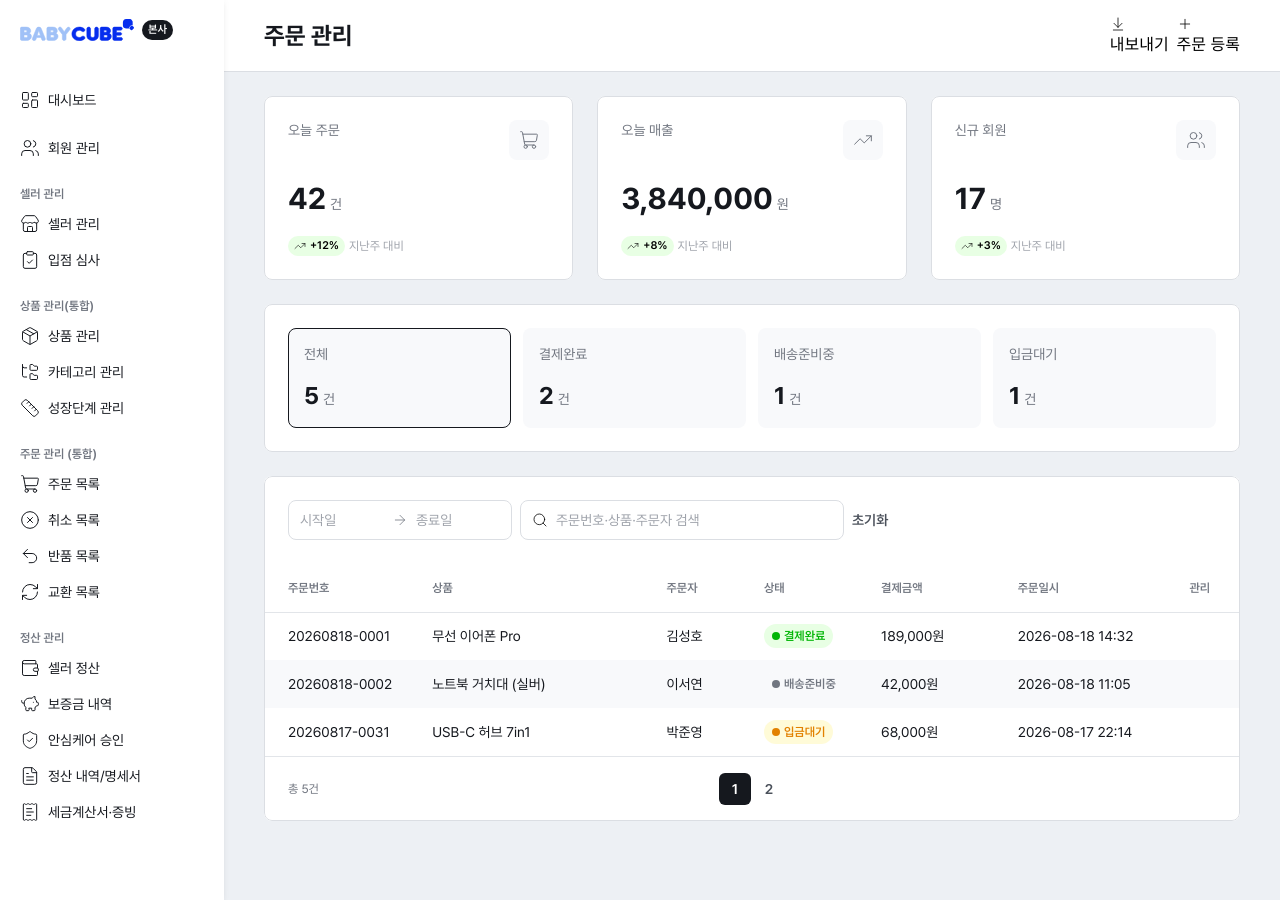
OrderListPage › 초기화 › 필터·검색을 건 뒤 초기화를 누르면 전체가 돌아온다
Click the button "결제완료 2 건" at (634, 378), box [523,328,746,428]
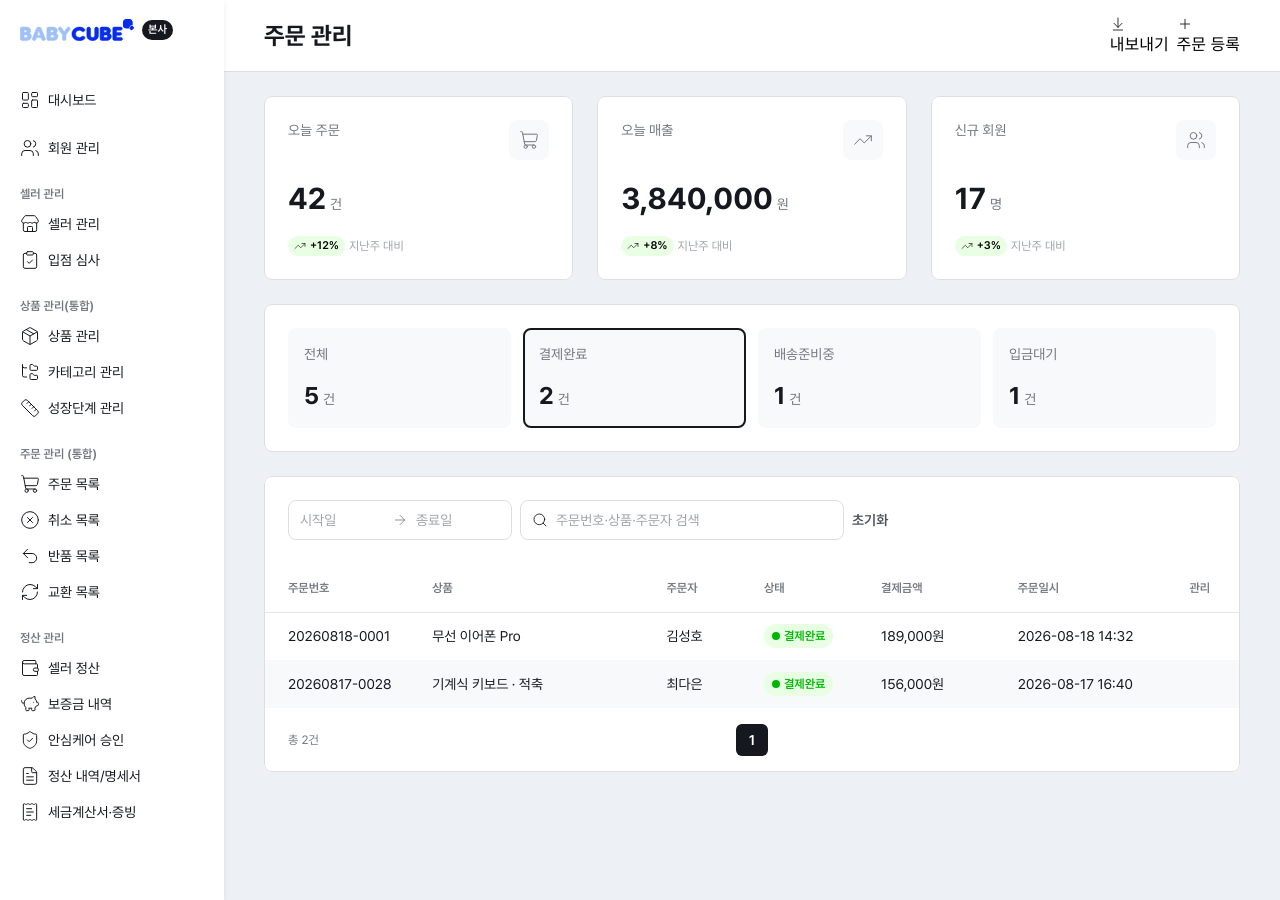
Type "김성호" into the field at (694, 520), box [556,508,832,532]
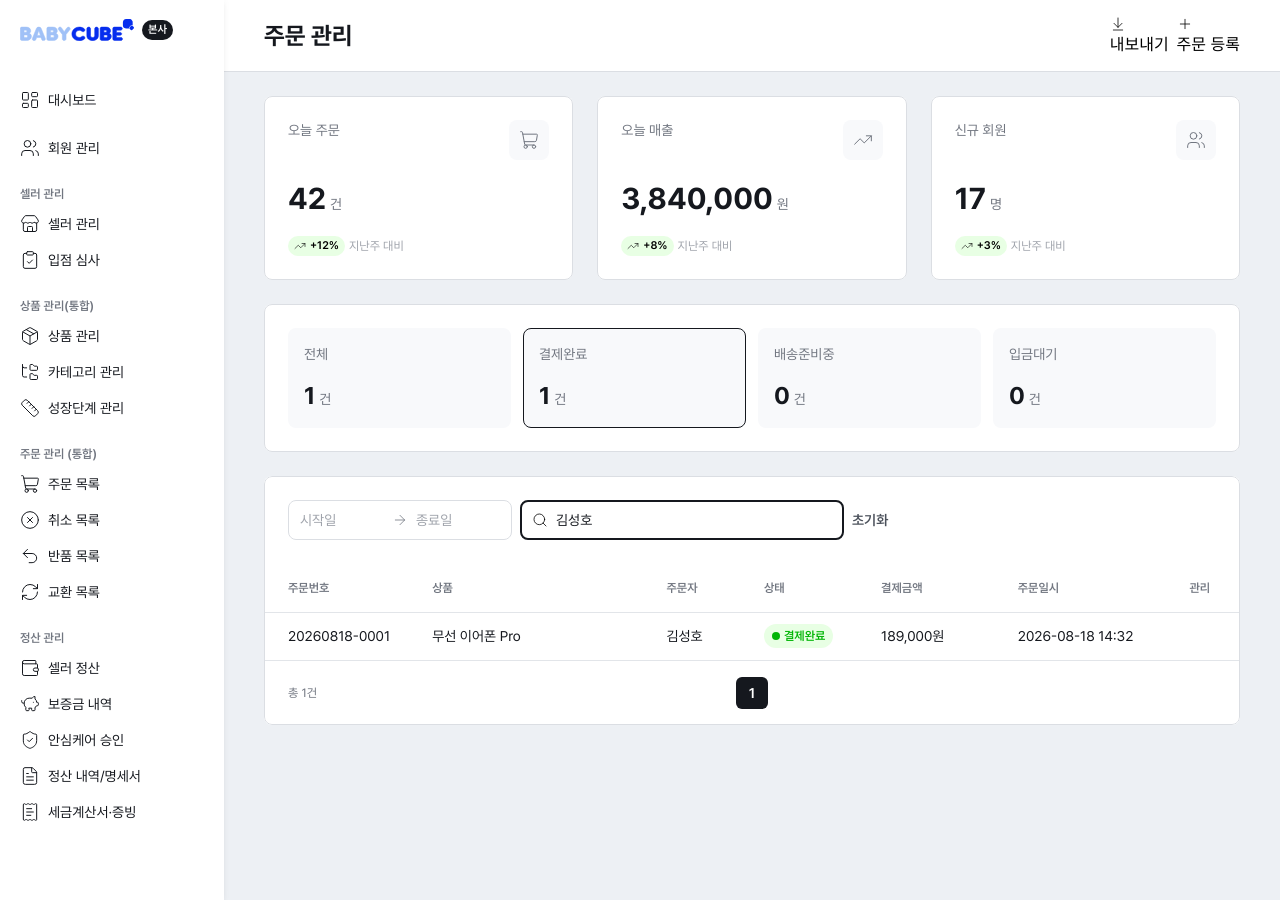
Click the button "초기화" at (870, 520), box [852,508,888,532]
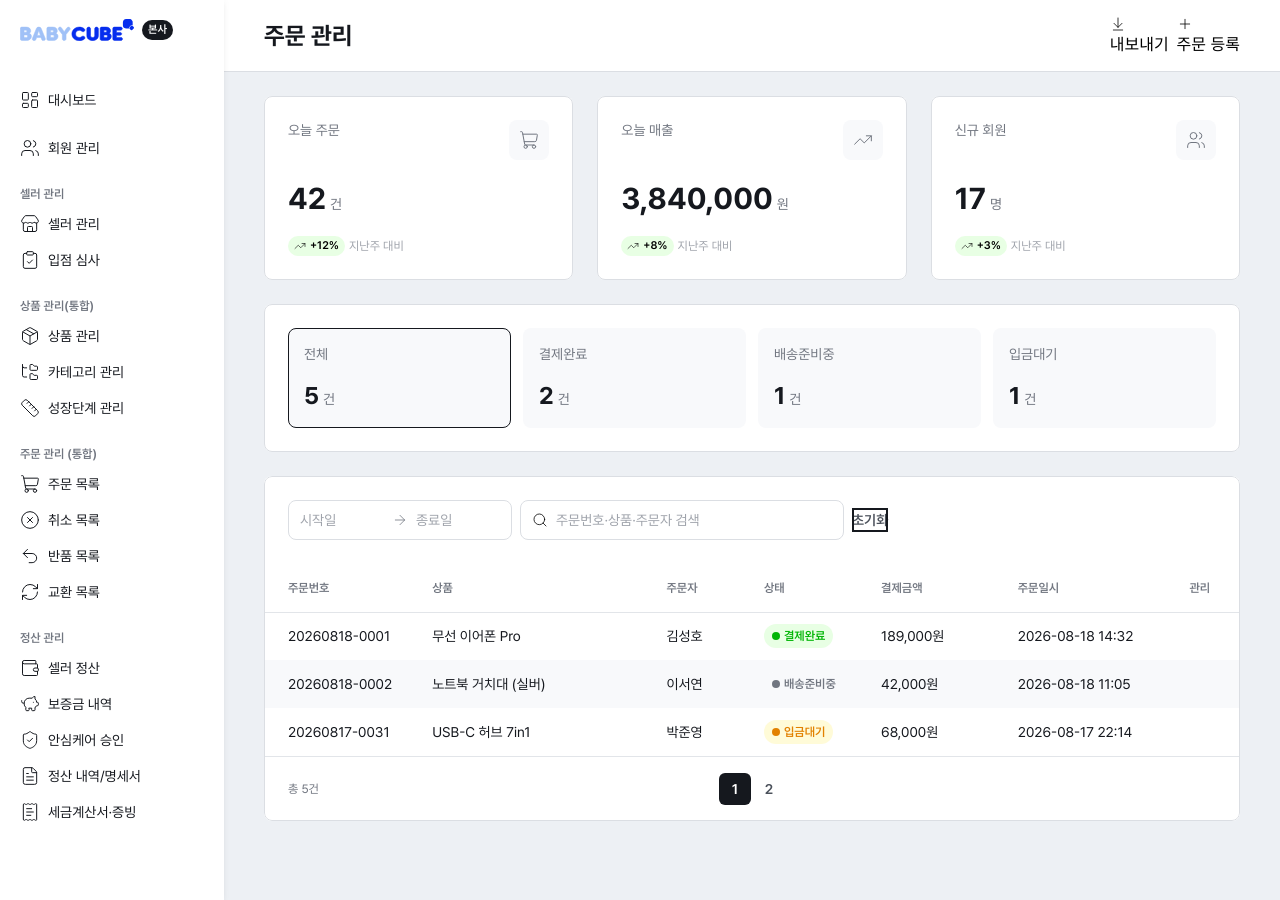
Now the text "총 5건" is shown, box [288,780,319,796]
Now the field is empty, box [556,508,832,532]
